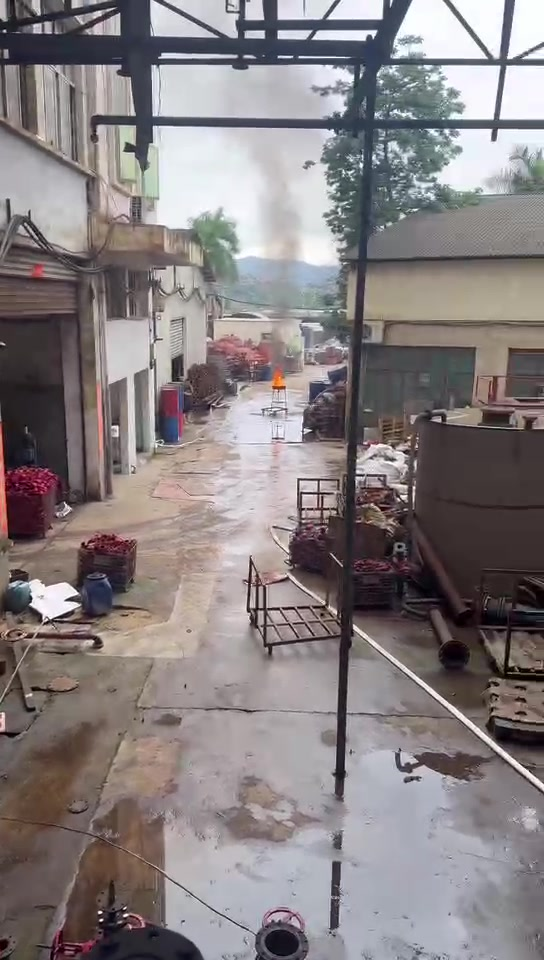fire: (271, 369, 285, 386)
